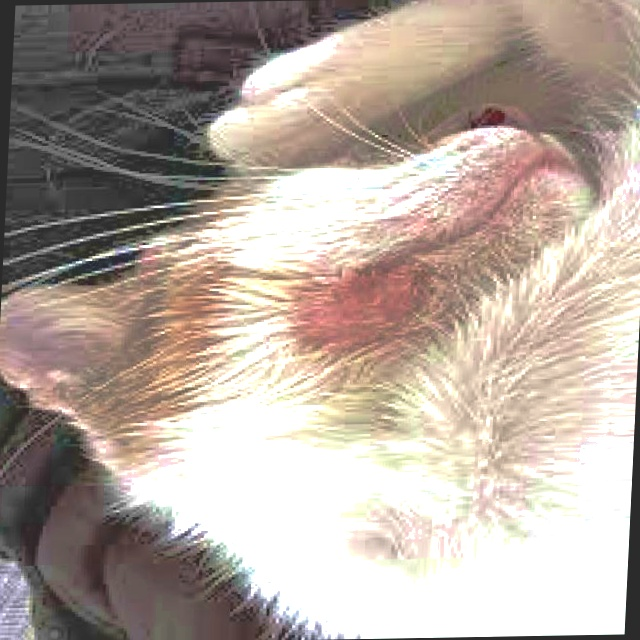ringworm: (309, 256, 424, 349)
